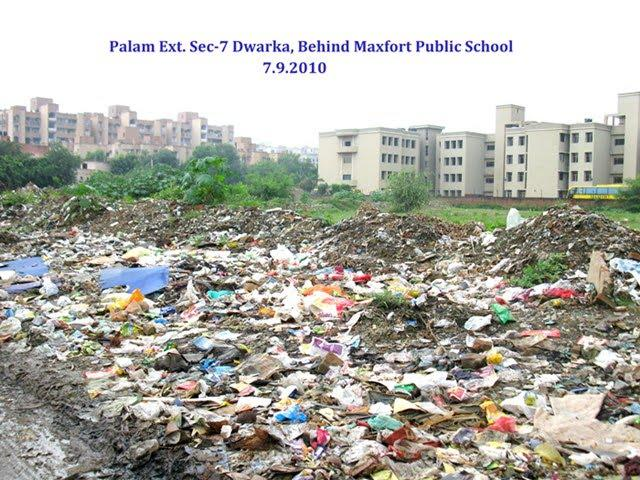garbage: (34, 215, 620, 464)
